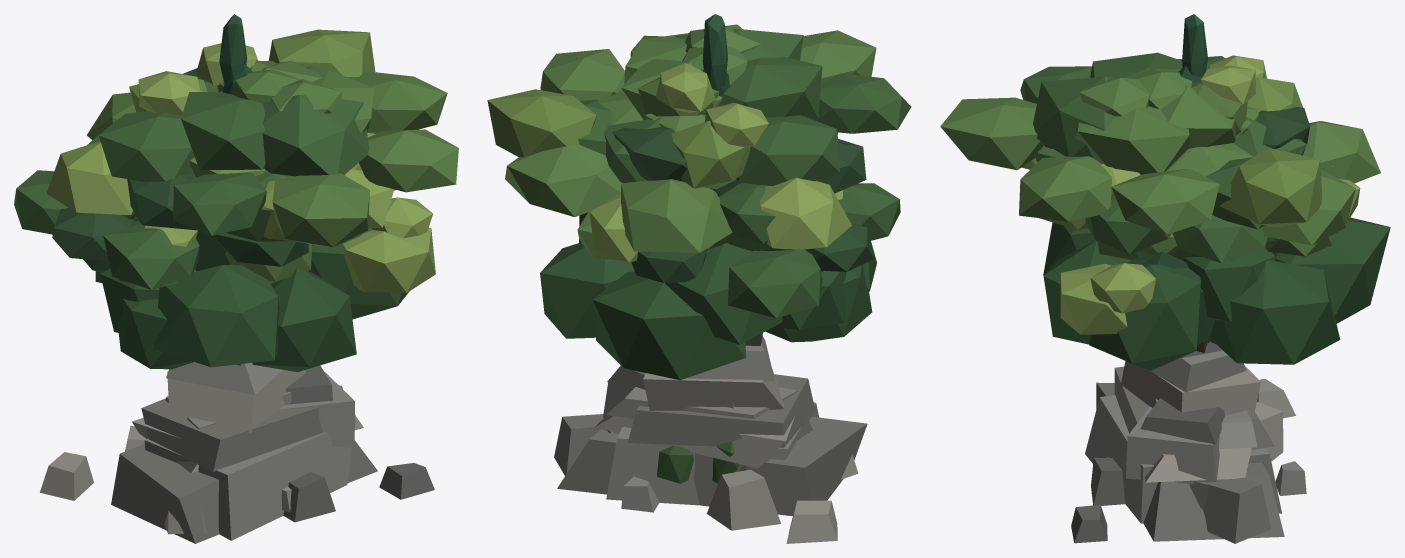
Rendered from Gebirge.fbx.
3 views of the same model, side by side, from view 1: azimuth 30°, elevation 25°; view 2: azimuth 150°, elevation 25°; view 3: azimuth 270°, elevation 25° (orthographic).
Parts seen in each view (by area): view 1: Pinie_C, Fels_A, Fels_B, Aleppokiefer_A, Steineiche_B, Steineiche_A, Pinie_B, Aleppokiefer_B, Pinie_A, Fels_D, Zypresse_A; view 2: Pinie_C, Pinie_A, Fels_A, Steineiche_A, Fels_B, Pinie_B, Aleppokiefer_A, Aleppokiefer_B, Steineiche_B, Fels_D, Zypresse_A, Macchia_B (+1 smaller); view 3: Pinie_C, Steineiche_A, Fels_A, Fels_B, Pinie_A, Aleppokiefer_A, Steineiche_B, Aleppokiefer_B, Fels_D, Zypresse_A, Pinie_B.
Boxes of the visible parts, x1=… form: Pinie_C: x1=98, y1=60, x2=458, y2=247; Fels_A: x1=141, y1=362, x2=355, y2=540; Fels_B: x1=40, y1=365, x2=434, y2=543; Aleppokiefer_A: x1=129, y1=29, x2=435, y2=292; Steineiche_B: x1=83, y1=221, x2=316, y2=367; Steineiche_A: x1=95, y1=228, x2=409, y2=371; Pinie_B: x1=14, y1=170, x2=308, y2=289; Aleppokiefer_B: x1=46, y1=43, x2=394, y2=288; Pinie_A: x1=87, y1=82, x2=395, y2=241; Fels_D: x1=125, y1=425, x2=335, y2=522; Zypresse_A: x1=219, y1=14, x2=253, y2=94; Pinie_C: x1=540, y1=24, x2=911, y2=186; Pinie_A: x1=505, y1=89, x2=866, y2=252; Fels_A: x1=554, y1=333, x2=858, y2=512; Steineiche_A: x1=540, y1=212, x2=872, y2=380; Fels_B: x1=557, y1=365, x2=867, y2=543; Pinie_B: x1=577, y1=183, x2=900, y2=318; Aleppokiefer_A: x1=487, y1=89, x2=768, y2=262; Aleppokiefer_B: x1=638, y1=63, x2=851, y2=272; Steineiche_B: x1=665, y1=179, x2=876, y2=344; Fels_D: x1=607, y1=429, x2=780, y2=530; Zypresse_A: x1=702, y1=14, x2=729, y2=96; Macchia_B: x1=657, y1=445, x2=693, y2=483; Pinie_C: x1=940, y1=52, x2=1309, y2=234; Steineiche_A: x1=1043, y1=217, x2=1390, y2=370; Fels_A: x1=1085, y1=342, x2=1306, y2=543; Fels_B: x1=1071, y1=379, x2=1295, y2=543; Pinie_A: x1=1036, y1=107, x2=1380, y2=263; Aleppokiefer_A: x1=1060, y1=55, x2=1360, y2=334; Steineiche_B: x1=1043, y1=222, x2=1275, y2=358; Aleppokiefer_B: x1=1021, y1=65, x2=1255, y2=229; Fels_D: x1=1091, y1=401, x2=1283, y2=509; Zypresse_A: x1=1178, y1=14, x2=1215, y2=343; Pinie_B: x1=1140, y1=233, x2=1332, y2=256.
Size of the model in its own units: 2.86 by 3.72 by 3.17.
